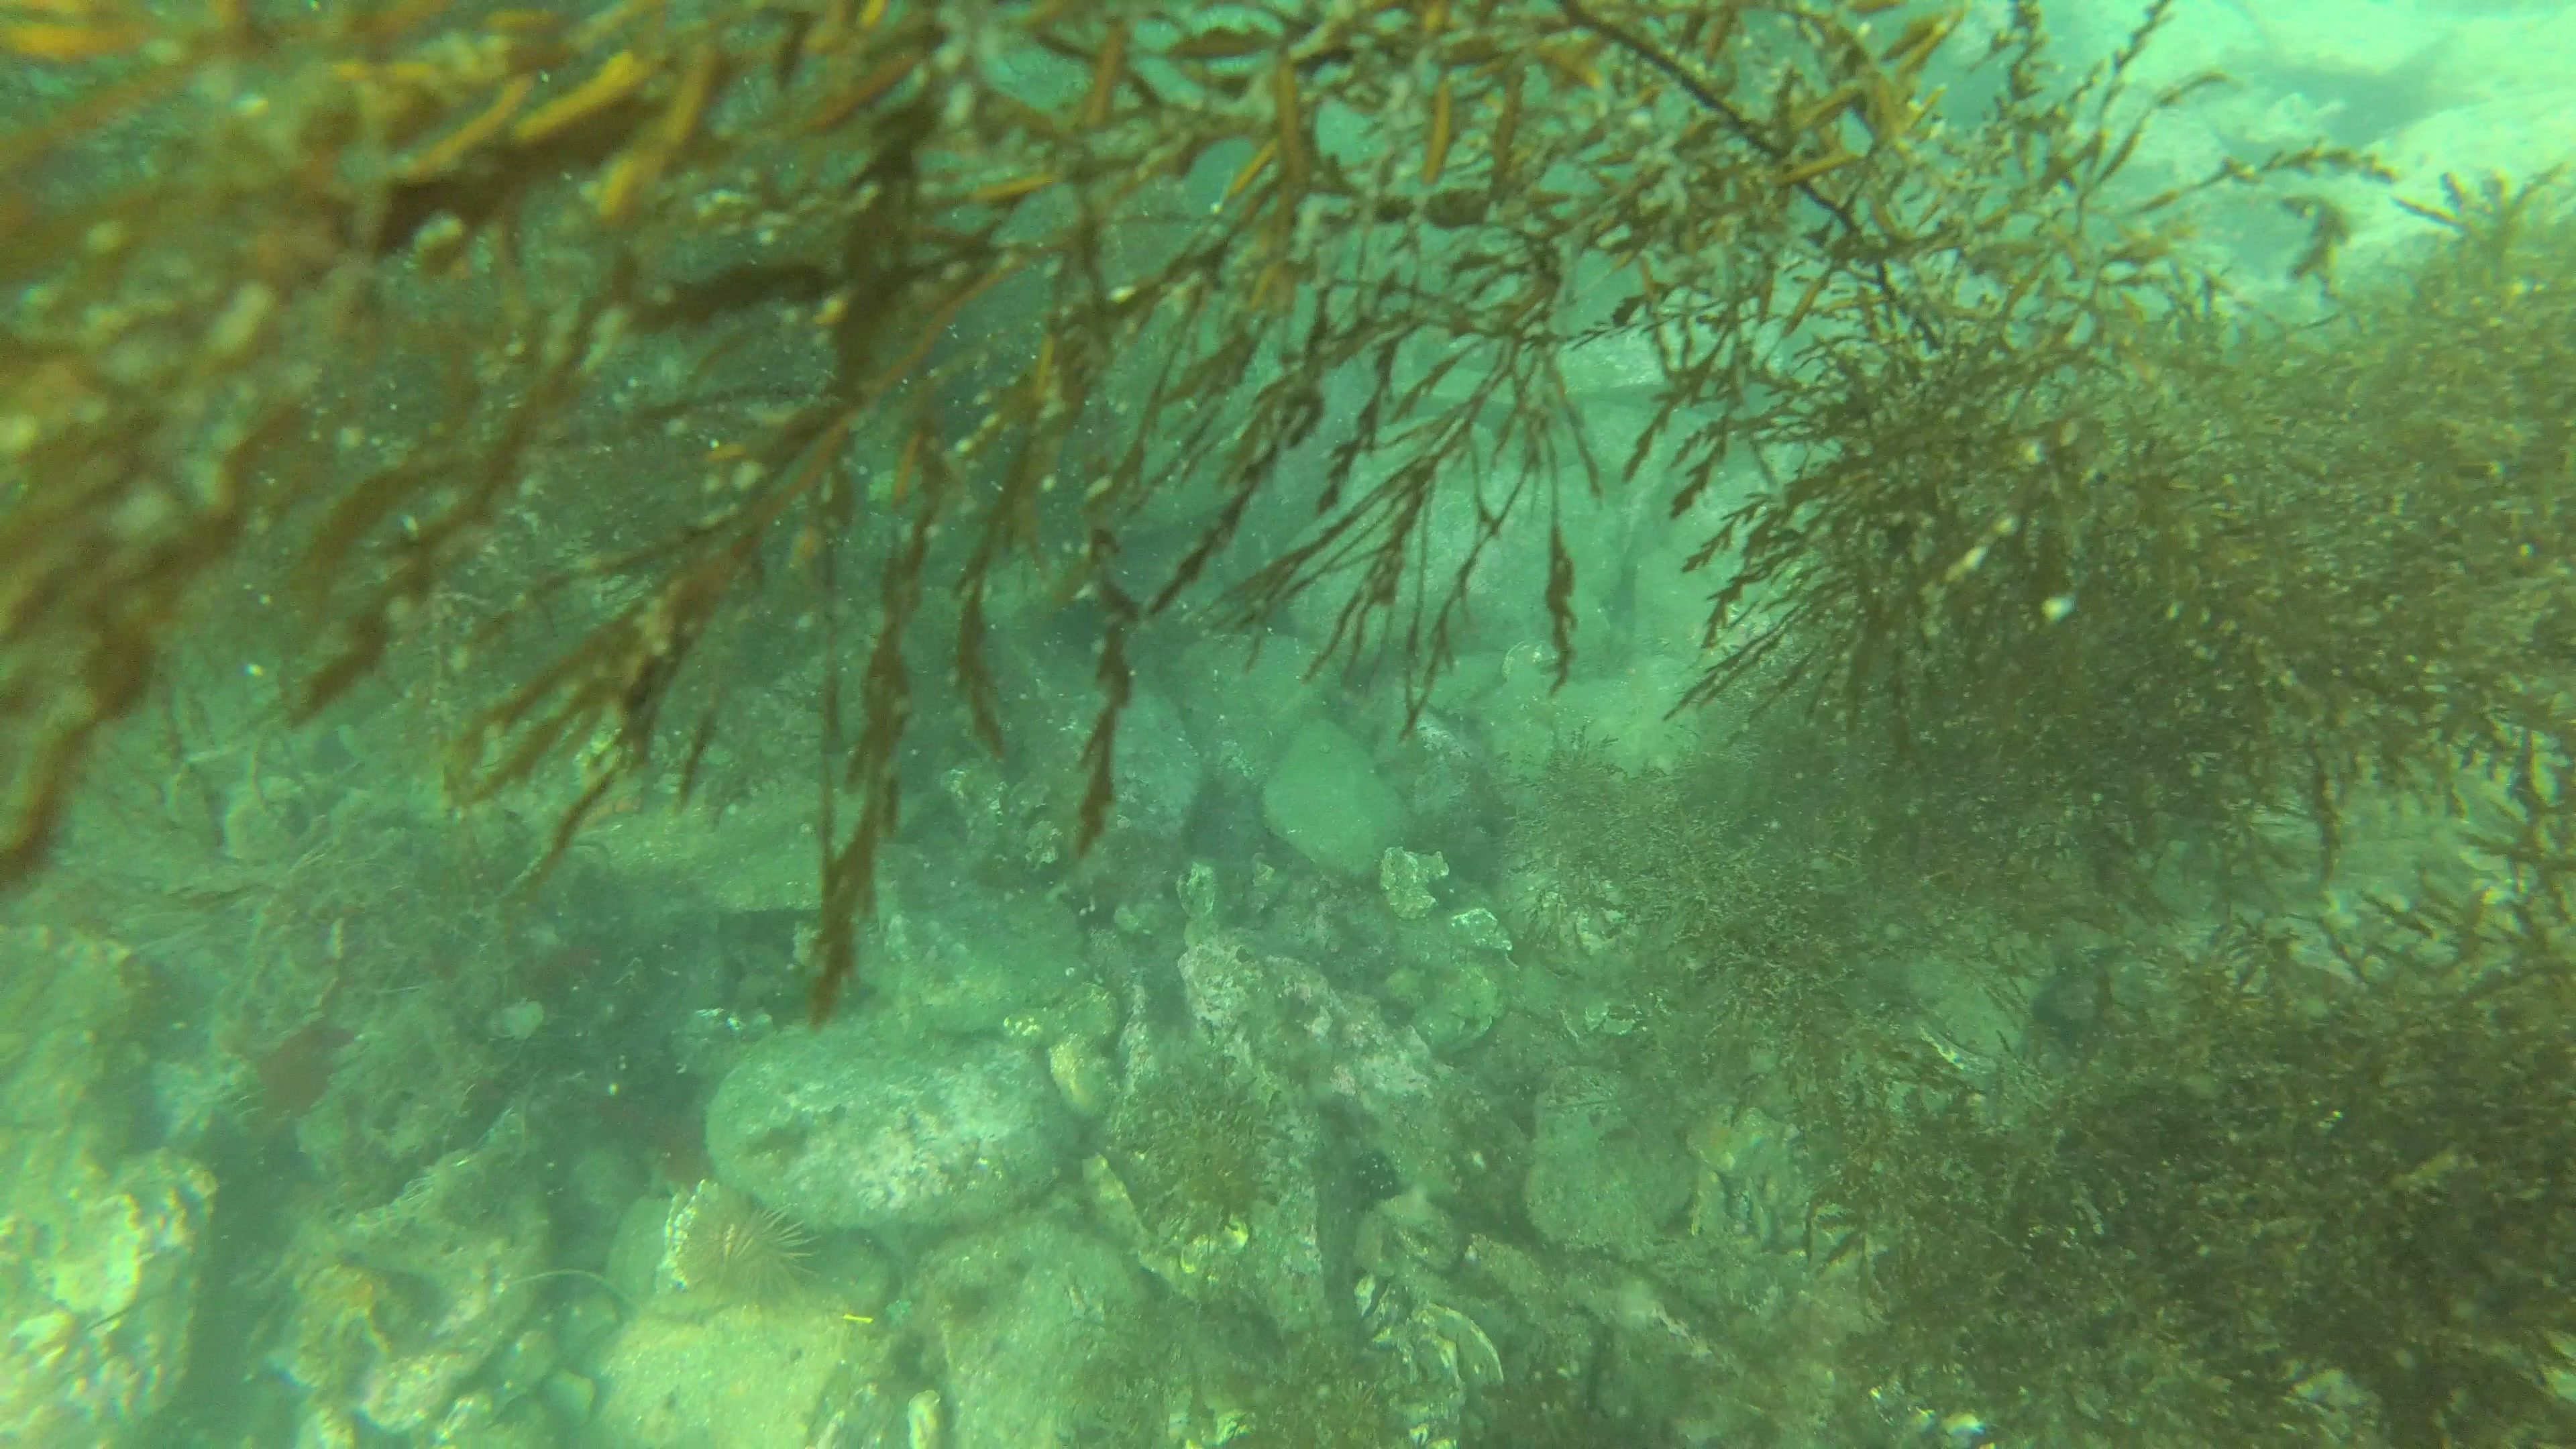echinus: (676, 1187, 816, 1311)
